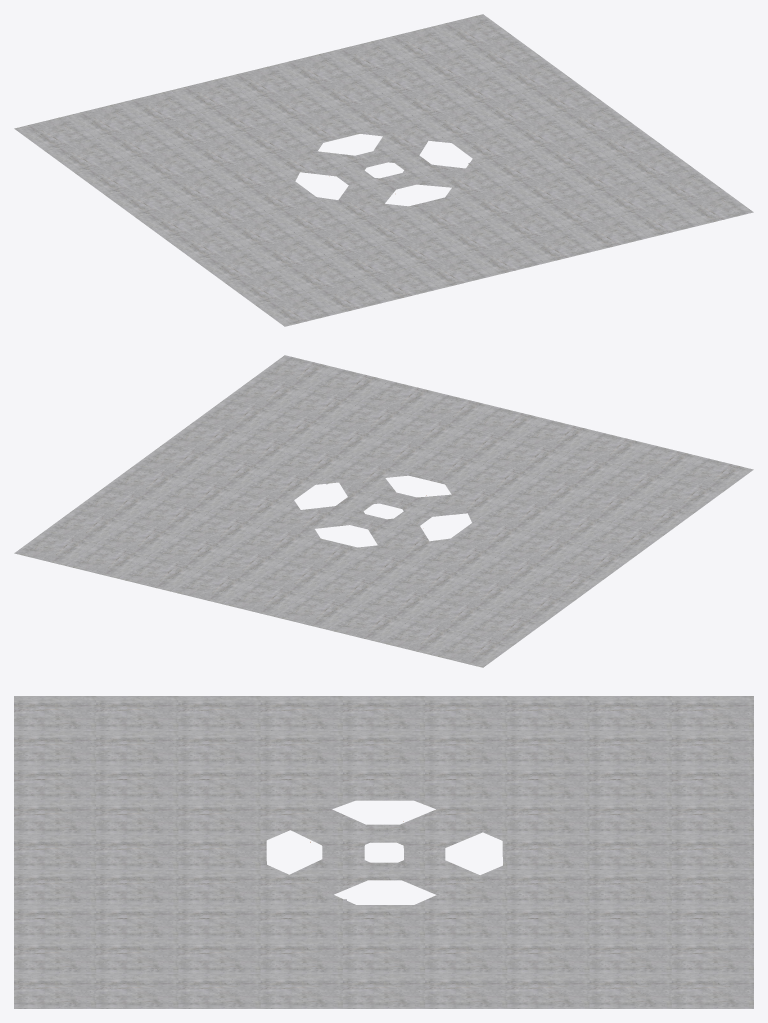
Rendered from suelo.obj.
The picture shows the model from 3 angles, top to bottom: view 1: azimuth 30°, elevation 25°; view 2: azimuth 150°, elevation 25°; view 3: azimuth 270°, elevation 25°; orthographic projection. The views are drawn at different scales.
Parts seen in each view (by area): view 1: Terreno; view 2: Terreno; view 3: Terreno.
Boxes of the visible parts, x1,y1,x2,y2 form: Terreno: (14,14,753,326); Terreno: (14,355,753,667); Terreno: (14,696,753,1008).
Size of the model in its own units: 900 by 0 by 900.
